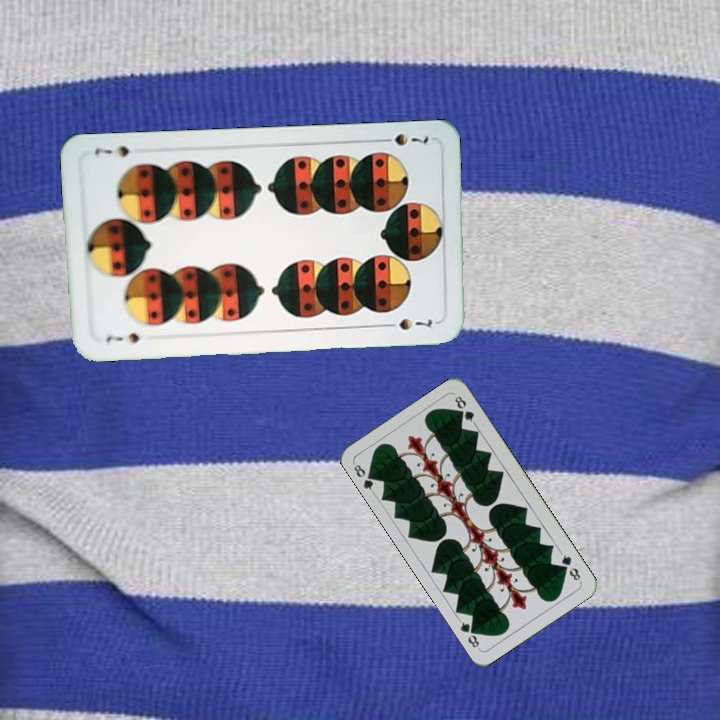G8: (349, 459, 379, 496), (556, 548, 583, 584)
S7: (375, 130, 431, 149), (101, 329, 146, 346)
